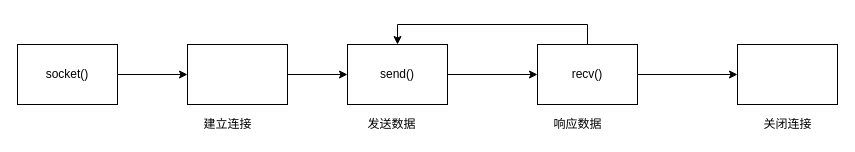
The diagram is 855 pixels wide and 152 high, and some of its shapes have lost their labels. The centre of each missing label's shape, as x and y in pixels:
close: the point at 787,74
connect(): the point at 237,74
